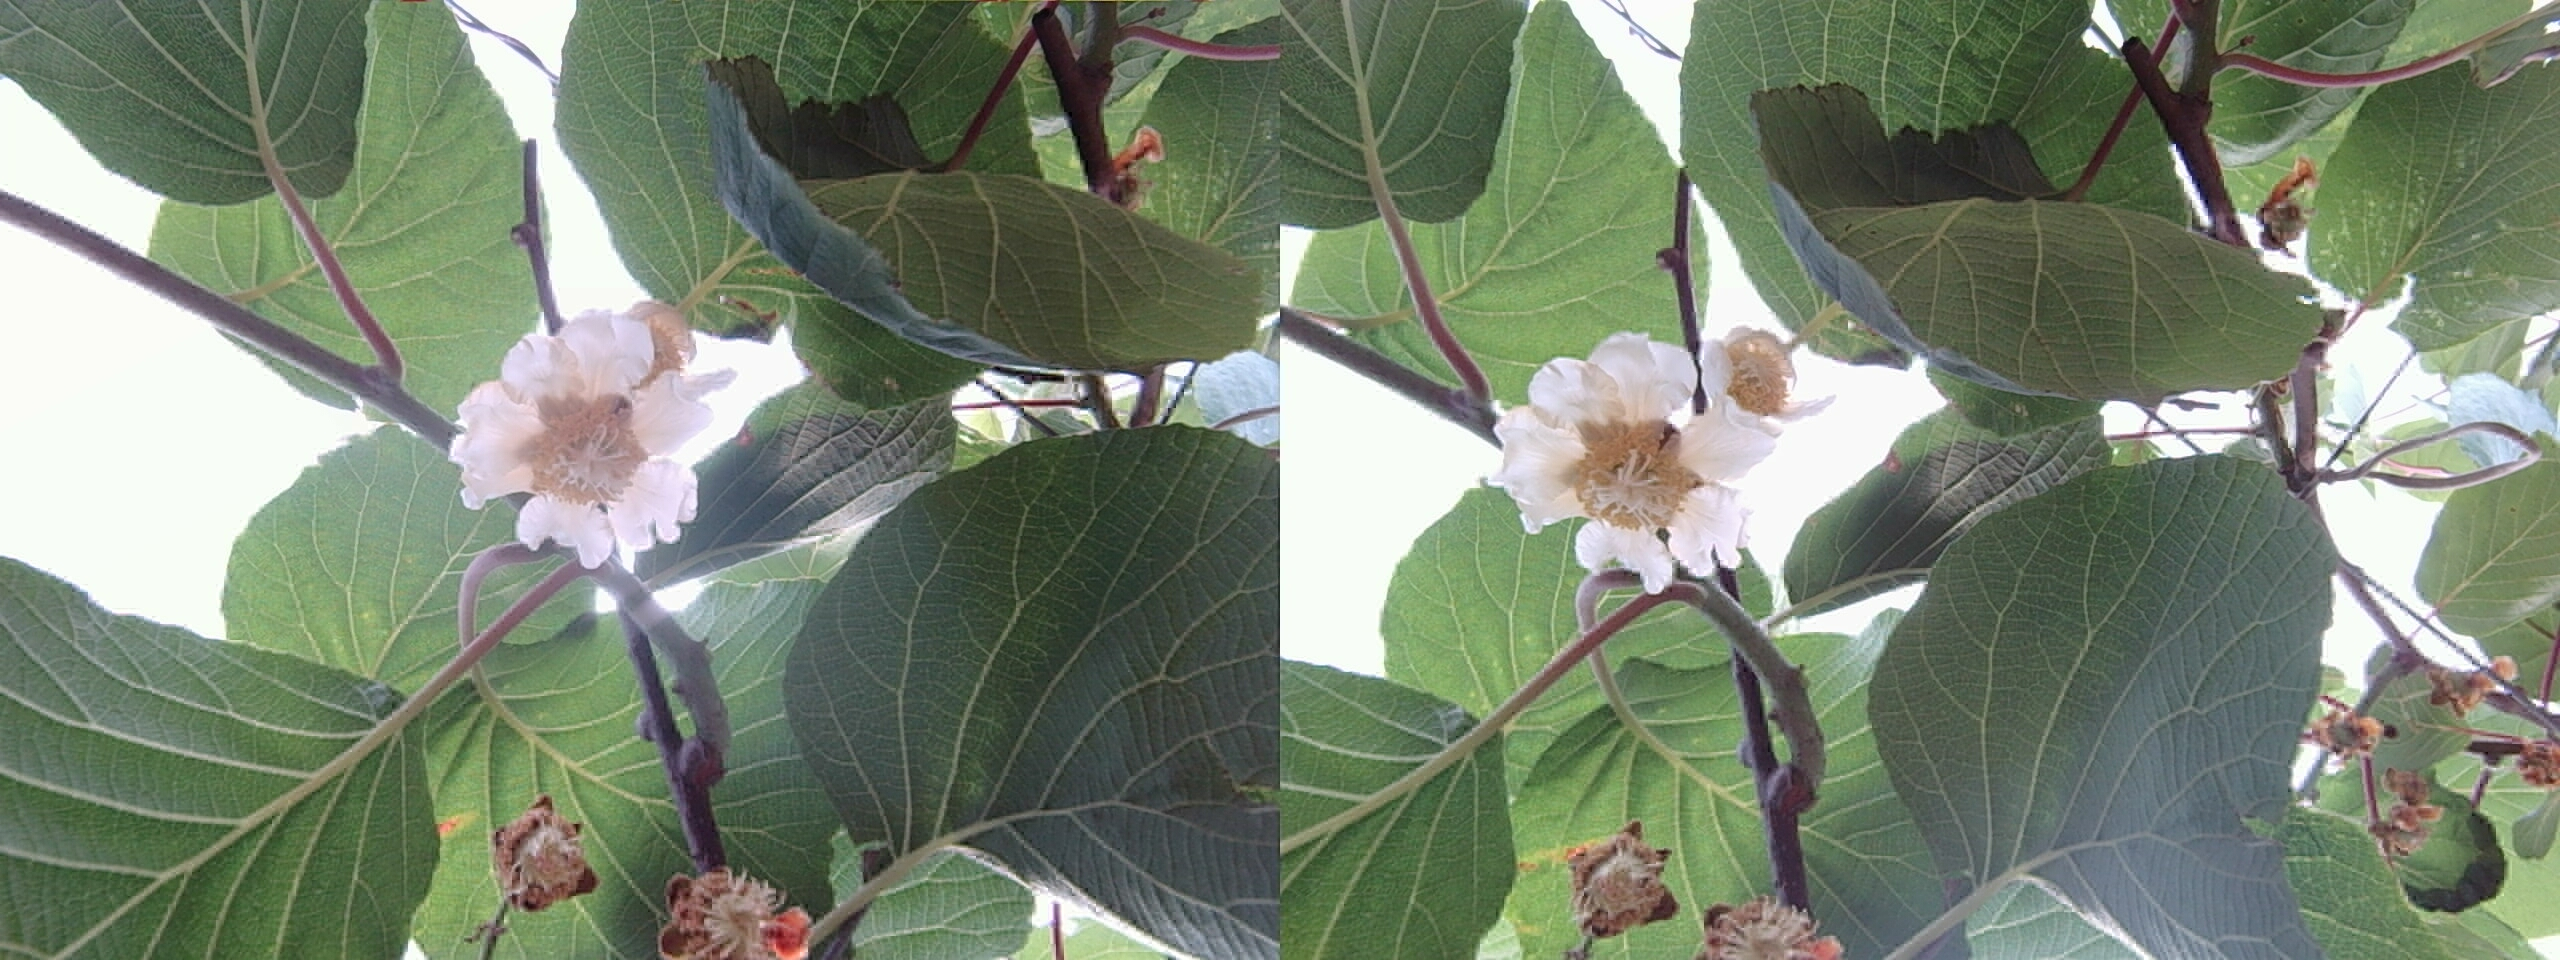flower: (451, 294, 712, 562), (1496, 331, 1760, 584), (1691, 323, 1807, 441)
